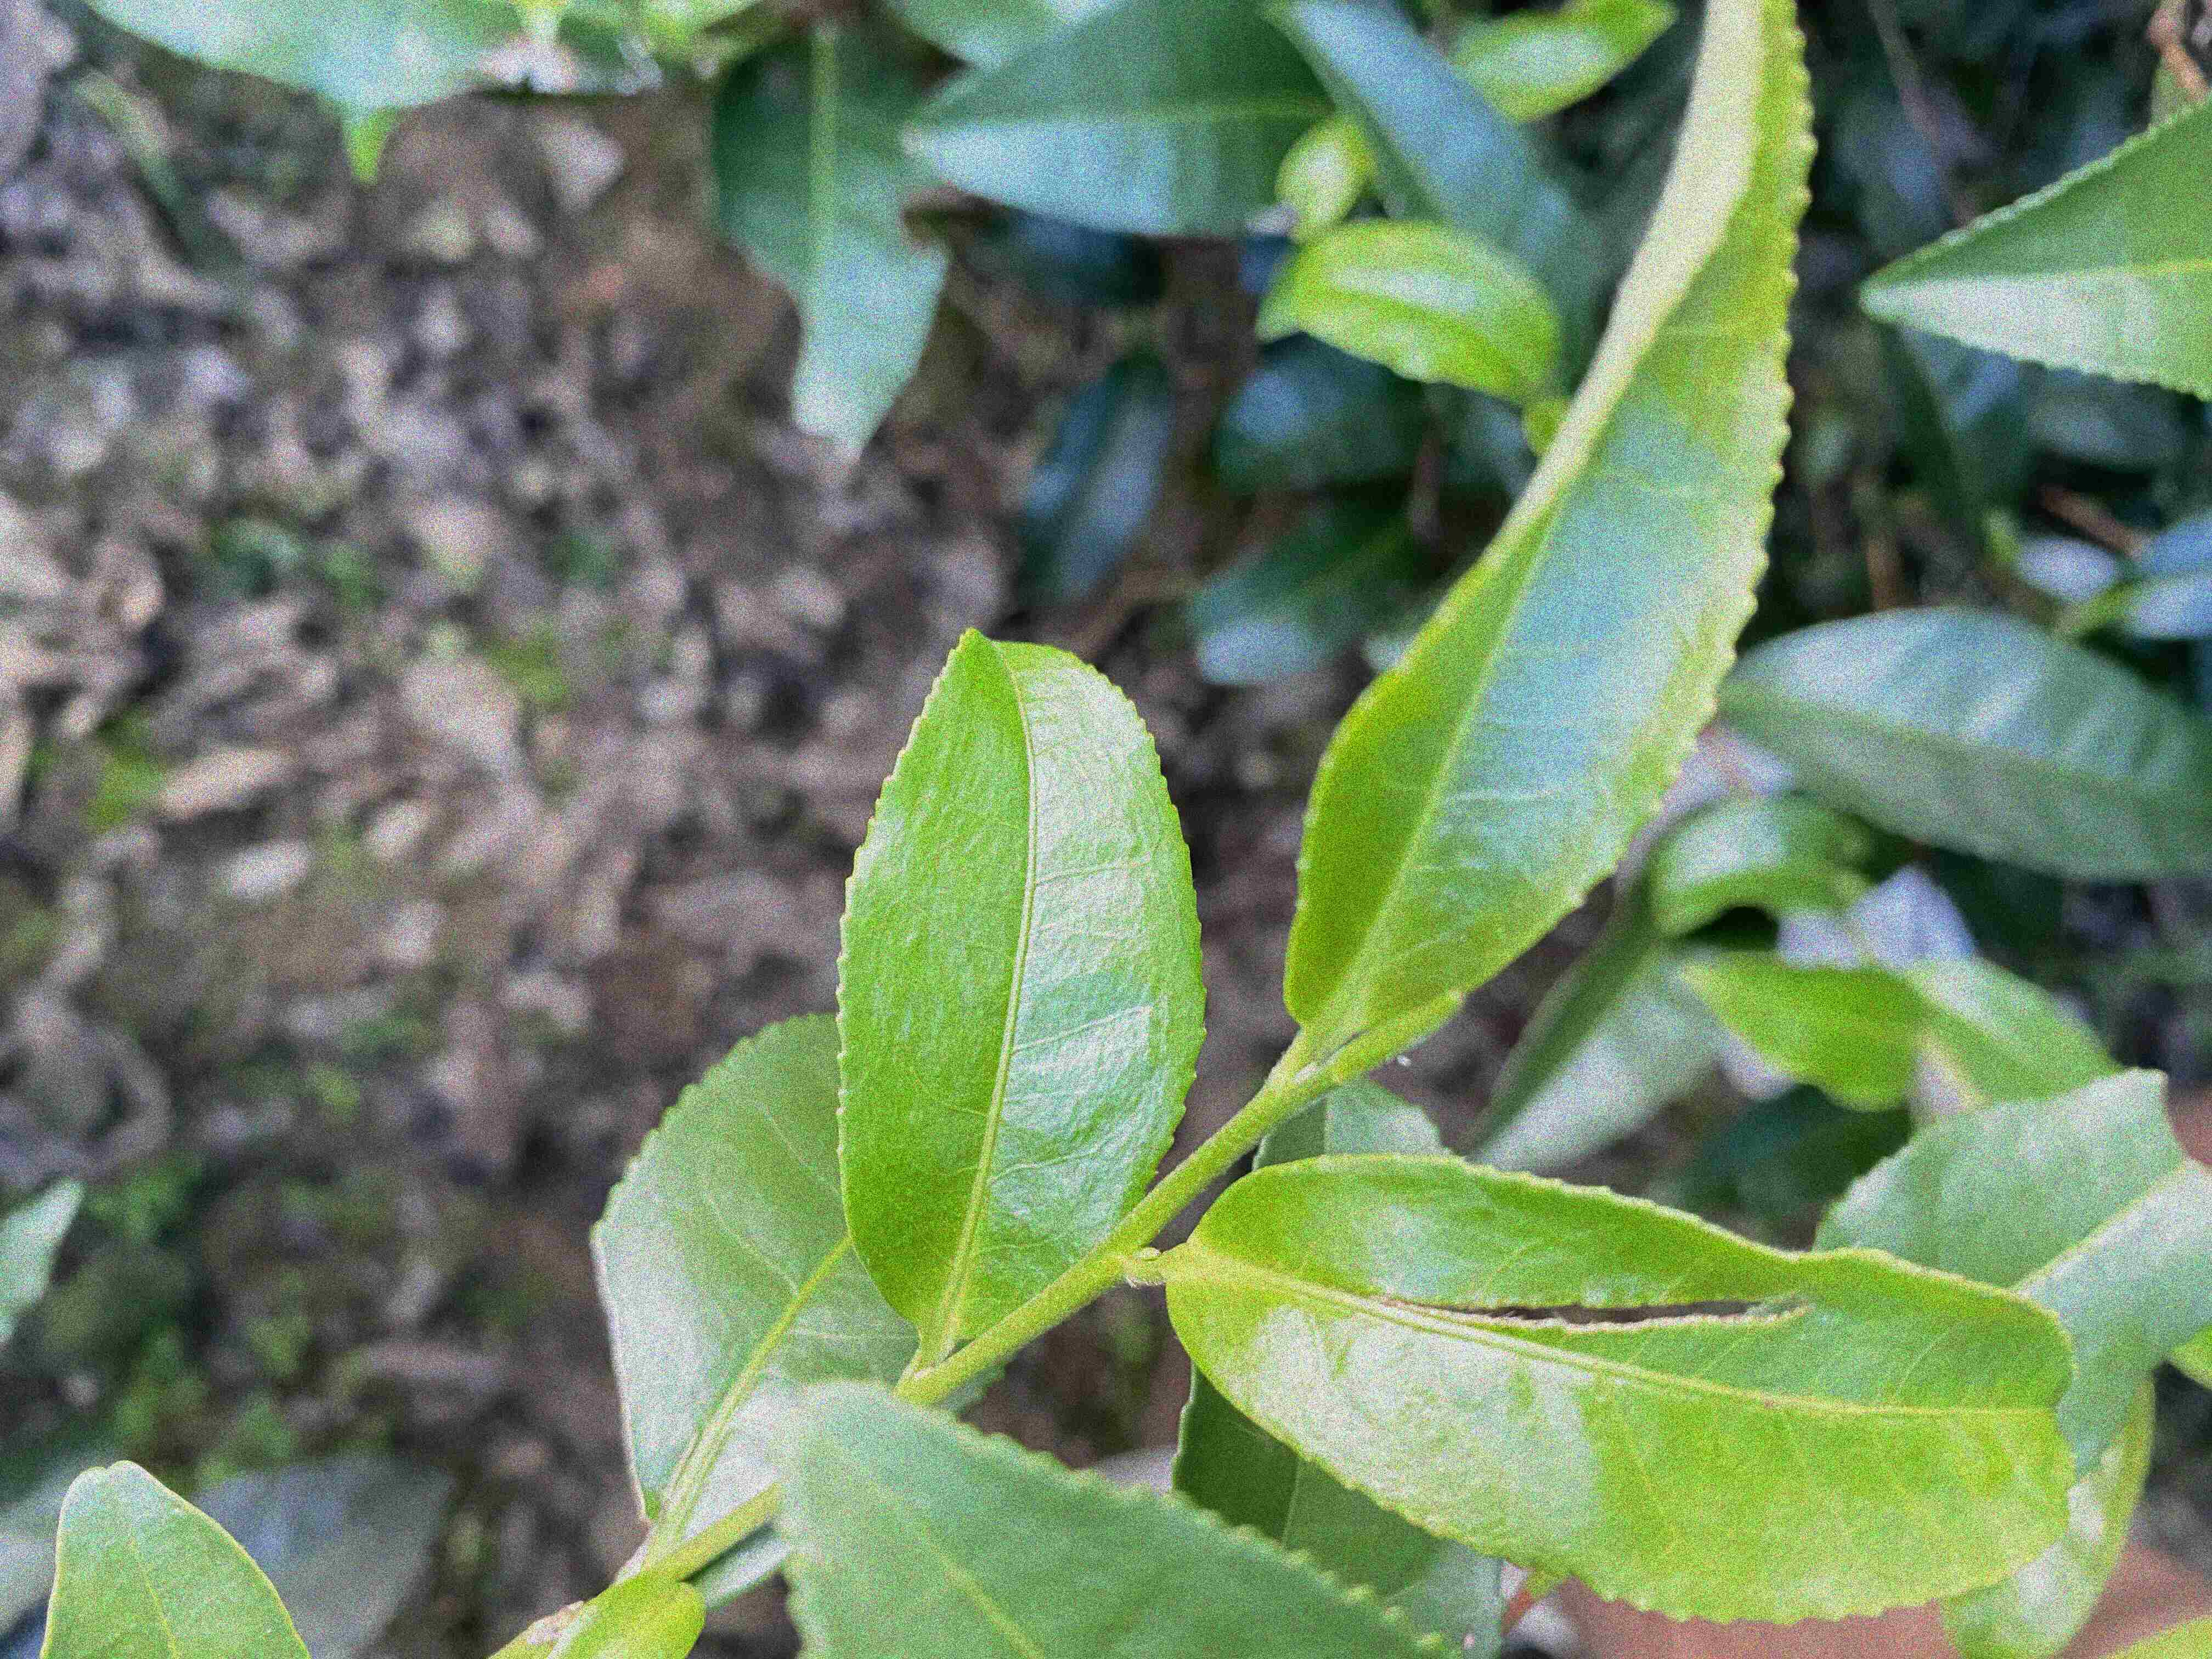chihuo_high: (587, 1009, 914, 1581)
chihuo_low: (1158, 1148, 2081, 1631)
healthy: (1282, 2, 1822, 1040), (833, 622, 1212, 1340)
